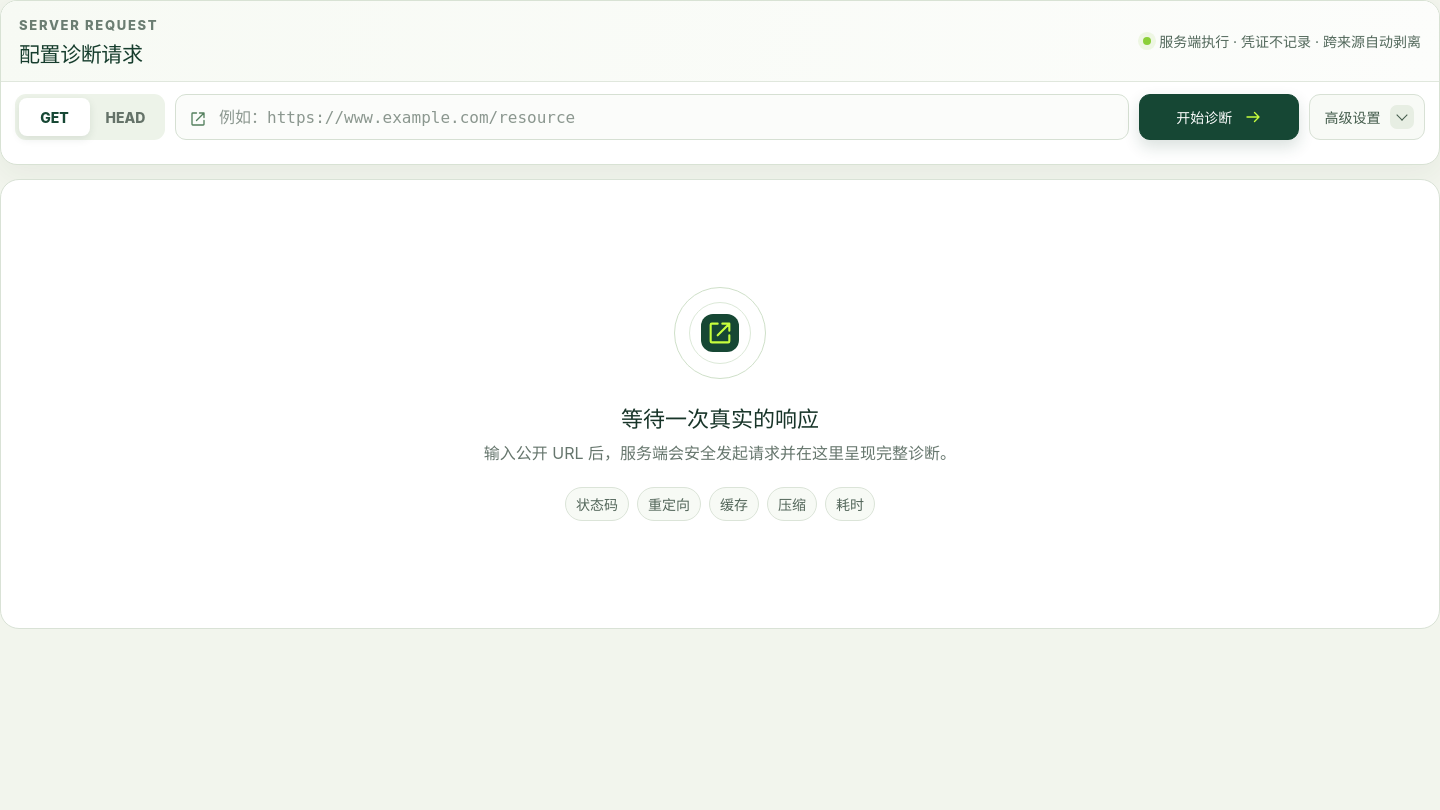
Test: HttpDiagnosticsTool › preserves controlled credentials for repeated diagnostics without exposing them in rendered results
Click the button "高级设置" at (1367, 117), box [1309,94,1425,140]
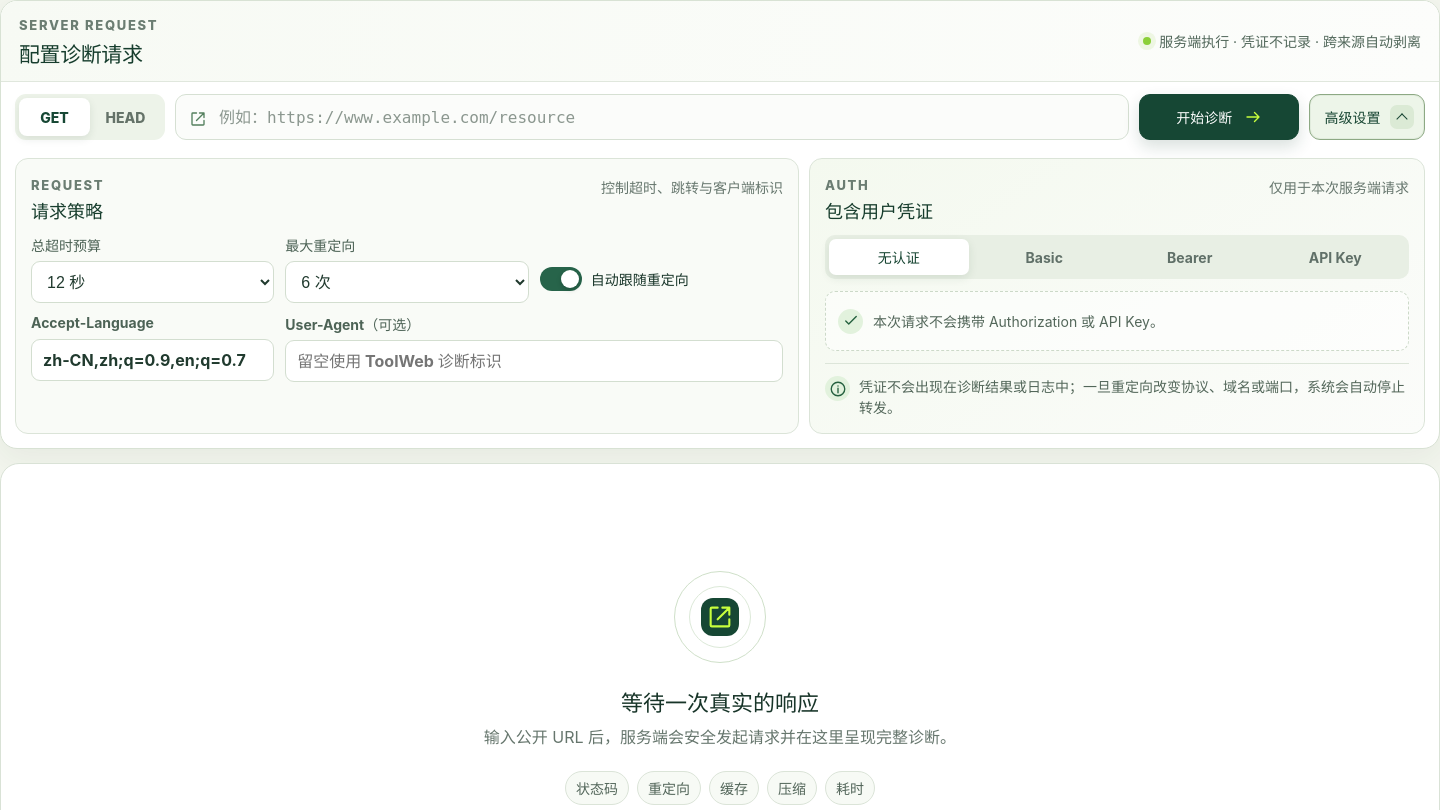
Click the button "Bearer" at (1190, 257), box [1120,239,1260,275]
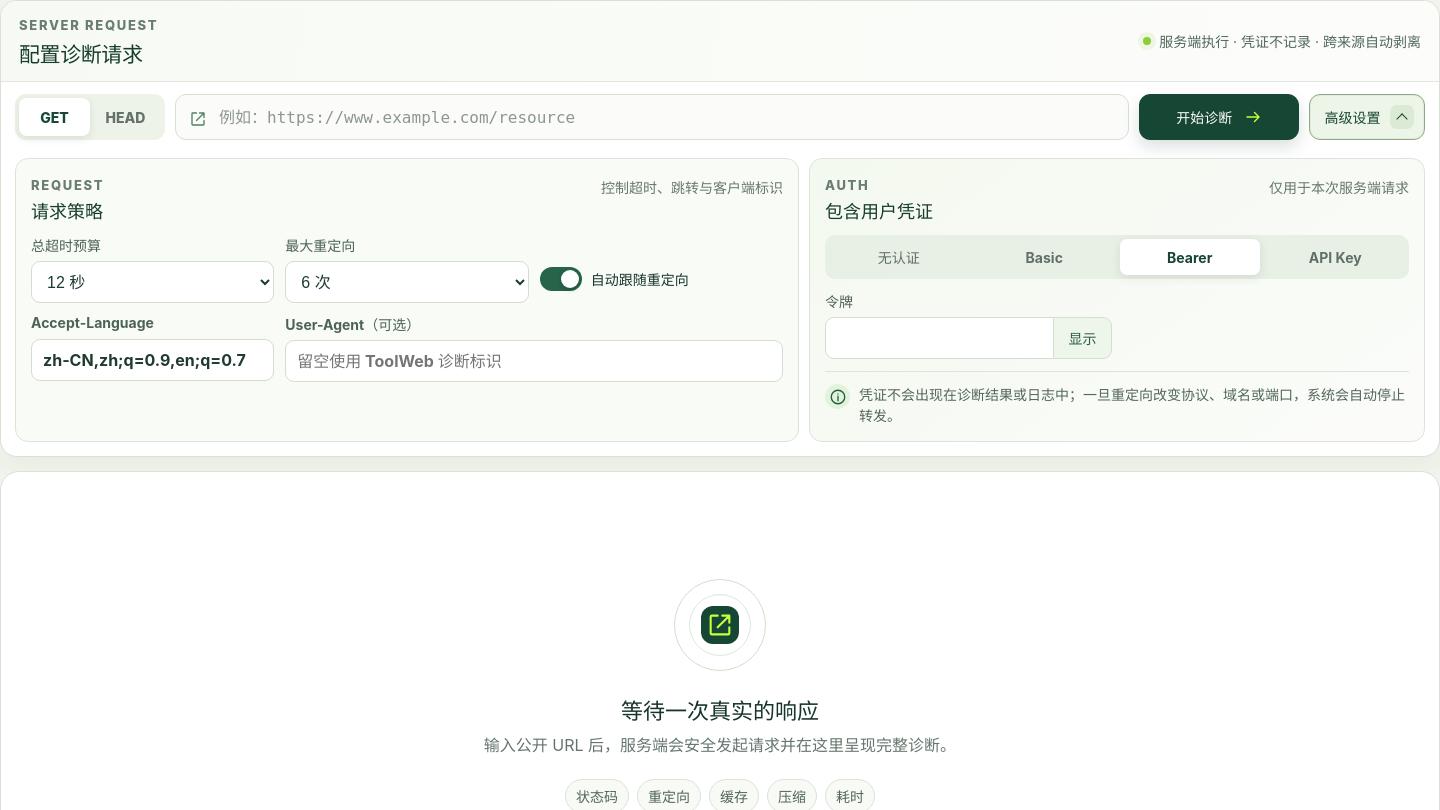
Type "https://example.com" into the field named "目标 URL" at (666, 117), box [217,96,1115,138]
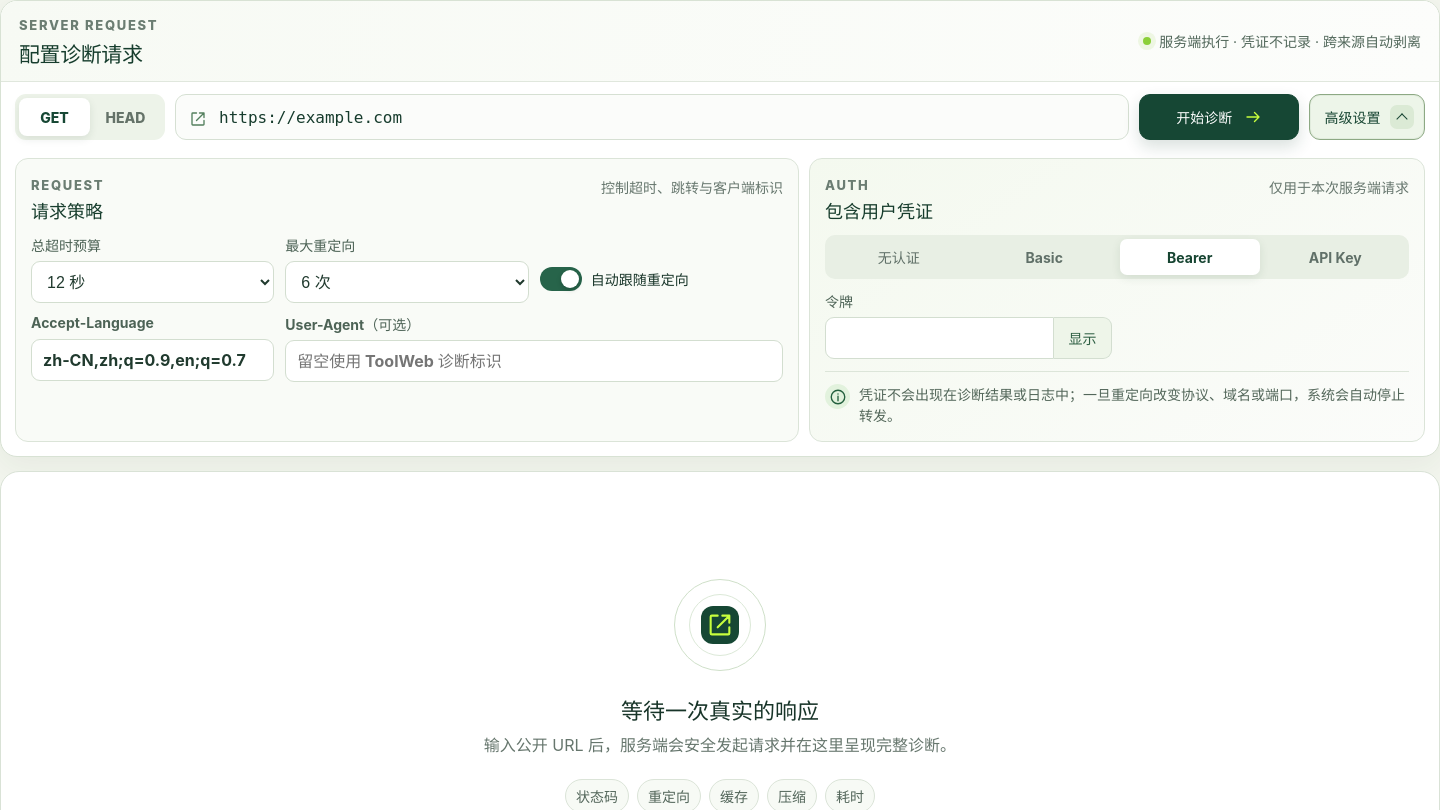
Type "private-token" into the password field named "认证凭证" at (940, 338), box [825,317,1054,359]
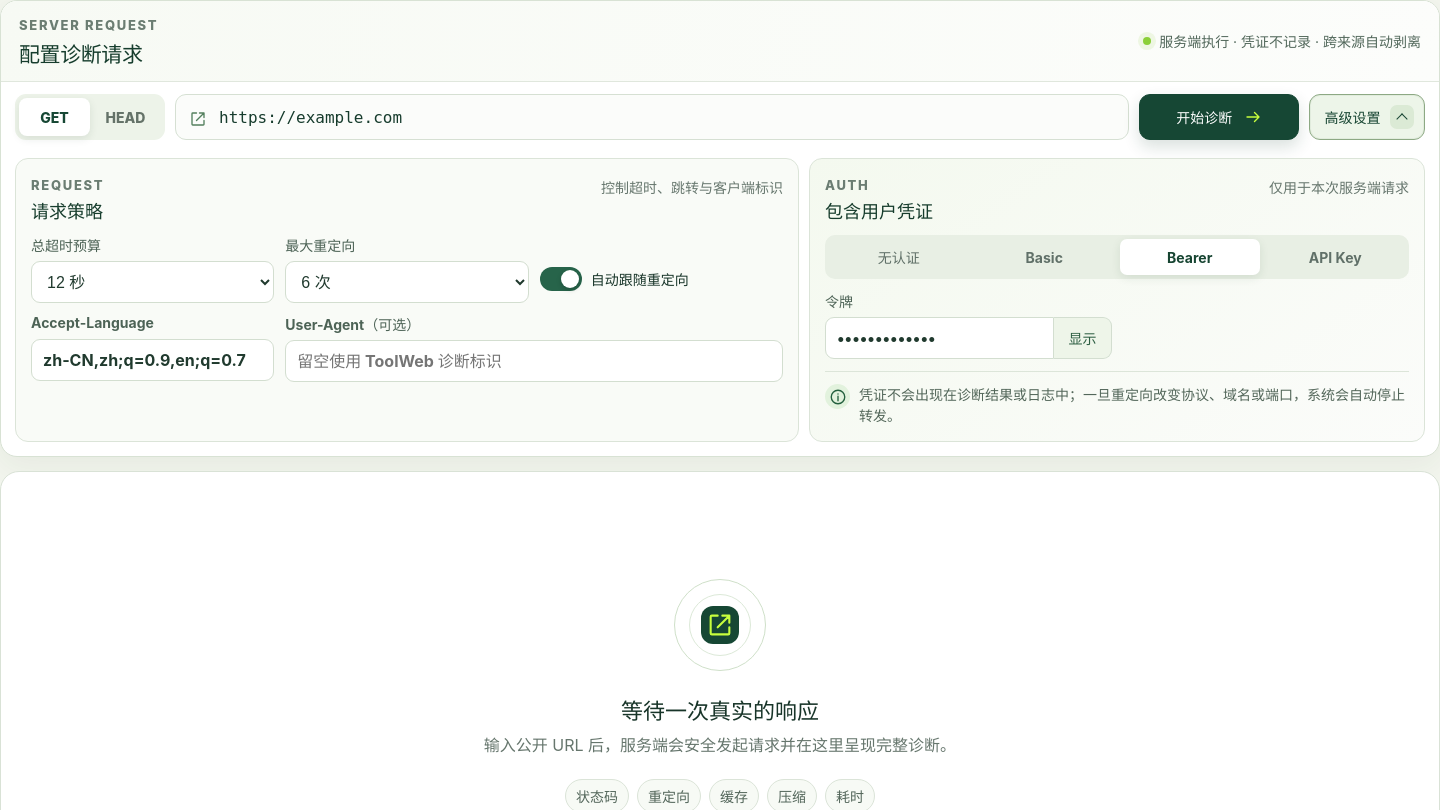
Click the button "开始诊断" at (1219, 117), box [1139,94,1299,140]
(page scrolled)
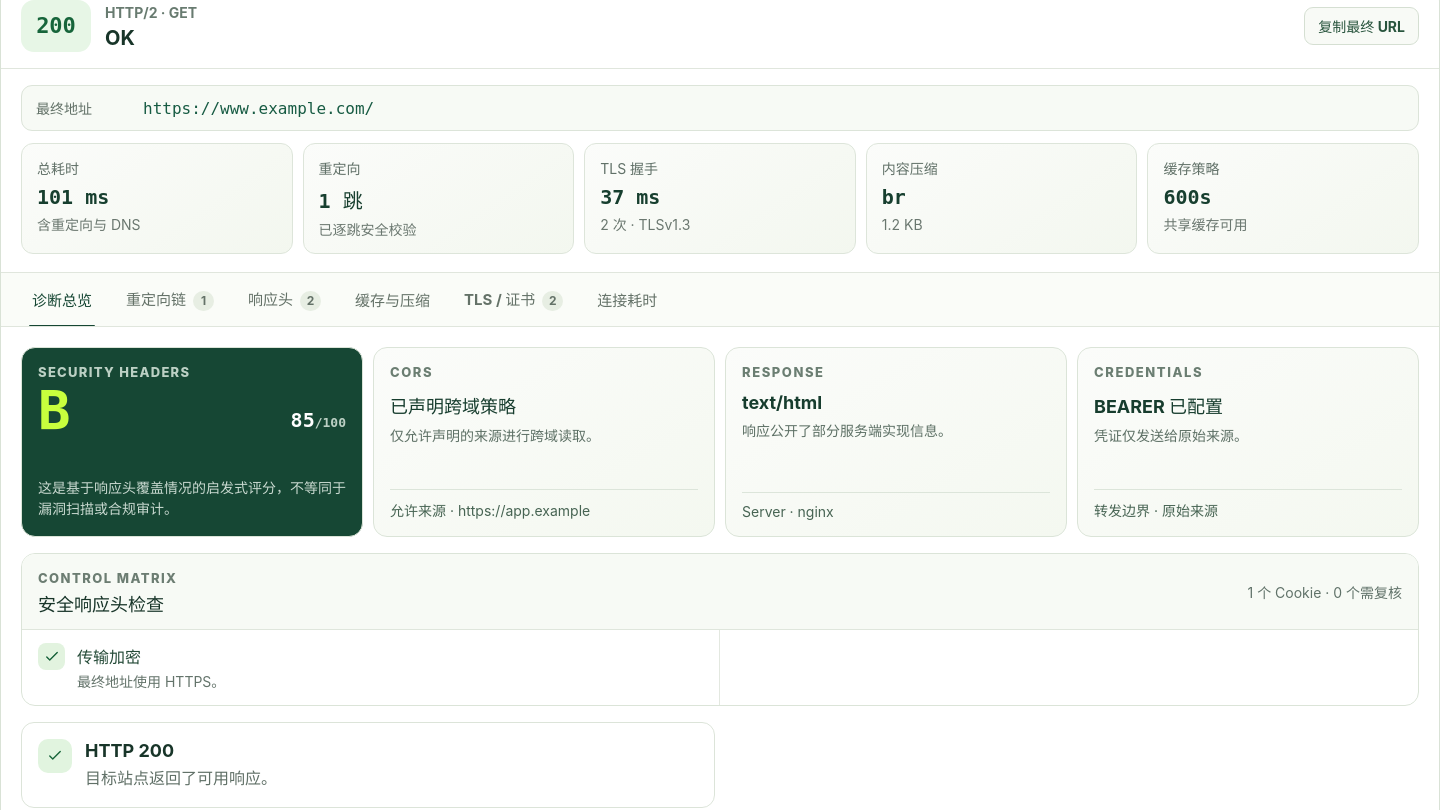
Expected: the heading "BEARER 已配置" is shown, [1094,396,1223,417]
